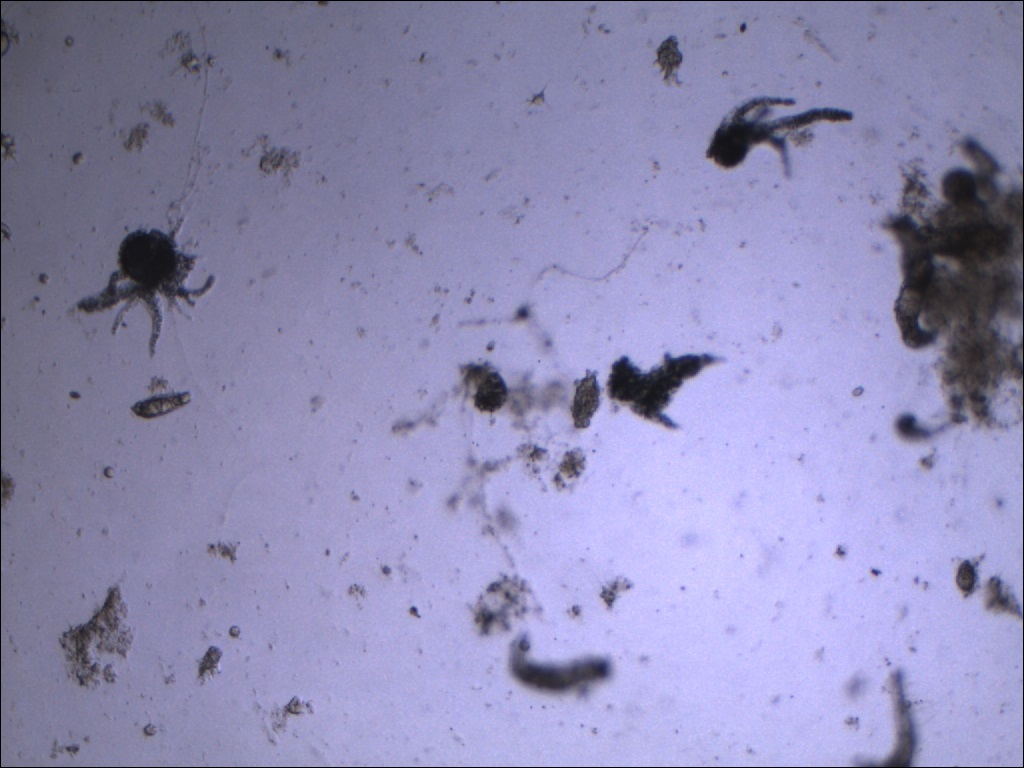amoeba: (74, 225, 219, 365)
